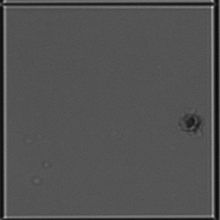Dead Cell: (176, 110, 204, 138)
